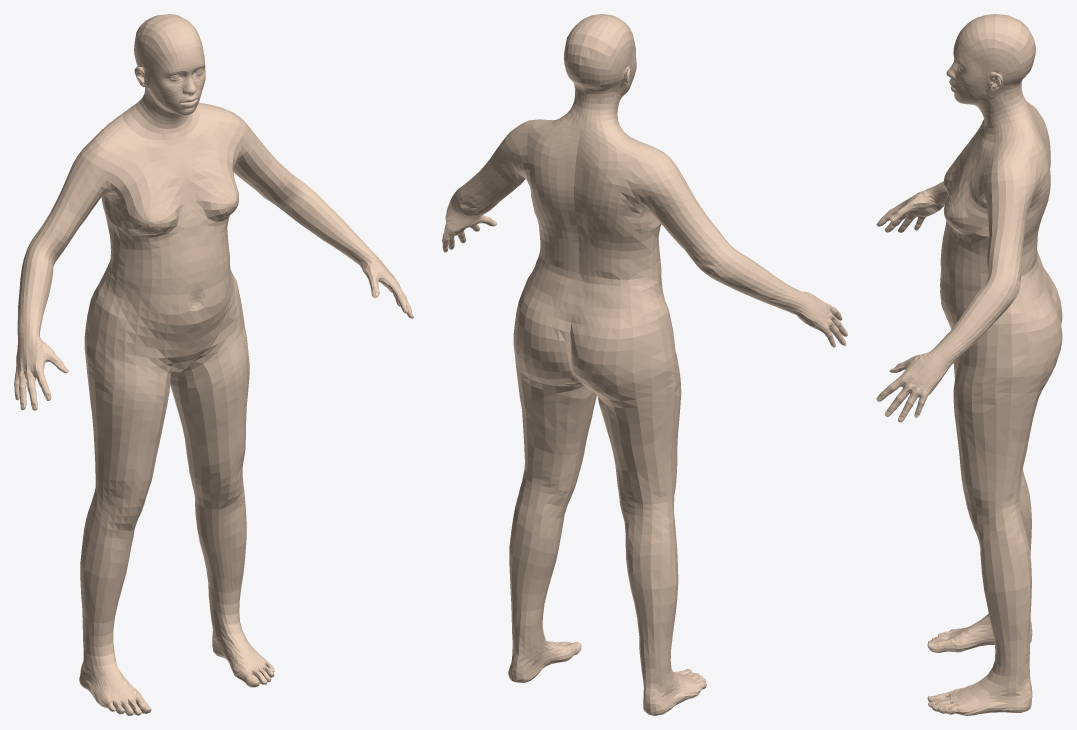
The model's file is female-young-heavy-low.glb.
The picture shows the model from 3 angles, left to right: view 1: azimuth 30°, elevation 25°; view 2: azimuth 150°, elevation 25°; view 3: azimuth 270°, elevation 25°; orthographic projection.
Visible parts, largest first — view 1: world; view 2: world; view 3: world.
Part boxes in pixels (x1,y1,x2,y2): world: (14, 14, 413, 715); world: (442, 14, 847, 715); world: (876, 14, 1062, 715).
Size of the model in its own units: 1.09 by 1.76 by 0.4477.
